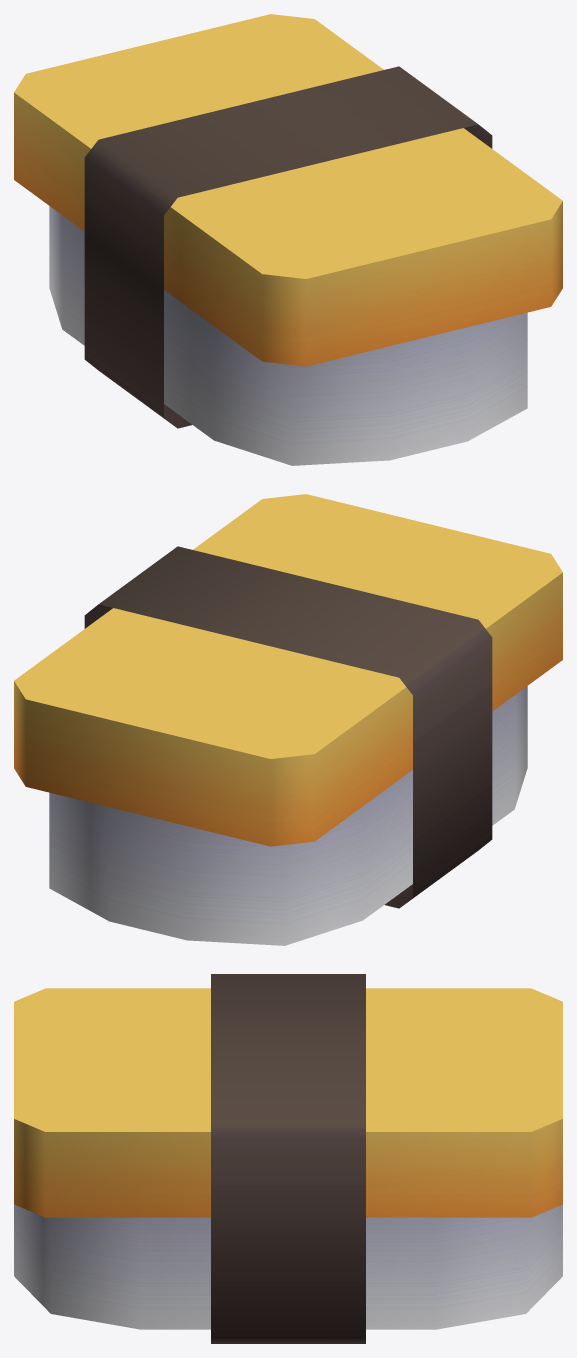
File: sushi-egg.glb
3 renders of one model, top to bottom at view 1: azimuth 30°, elevation 25°; view 2: azimuth 150°, elevation 25°; view 3: azimuth 270°, elevation 25°, orthographic. The views are drawn at different scales.
Visible parts, largest first — view 1: sushi-egg; view 2: sushi-egg; view 3: sushi-egg.
Boxes of the visible parts, box(x1,y1,x2,y2) form: sushi-egg: box(14, 14, 562, 465); sushi-egg: box(14, 494, 562, 945); sushi-egg: box(14, 974, 562, 1343).
Size of the model in its own units: 0.1179 by 0.0792 by 0.1743.
Materials: 1 (1 with a texture image).
